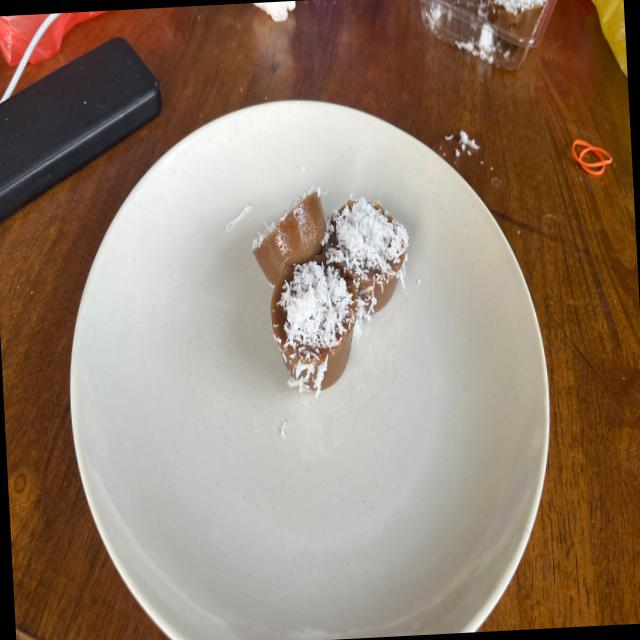Kuih lompang: (271, 256, 358, 396), (324, 198, 409, 325), (254, 191, 326, 285)
